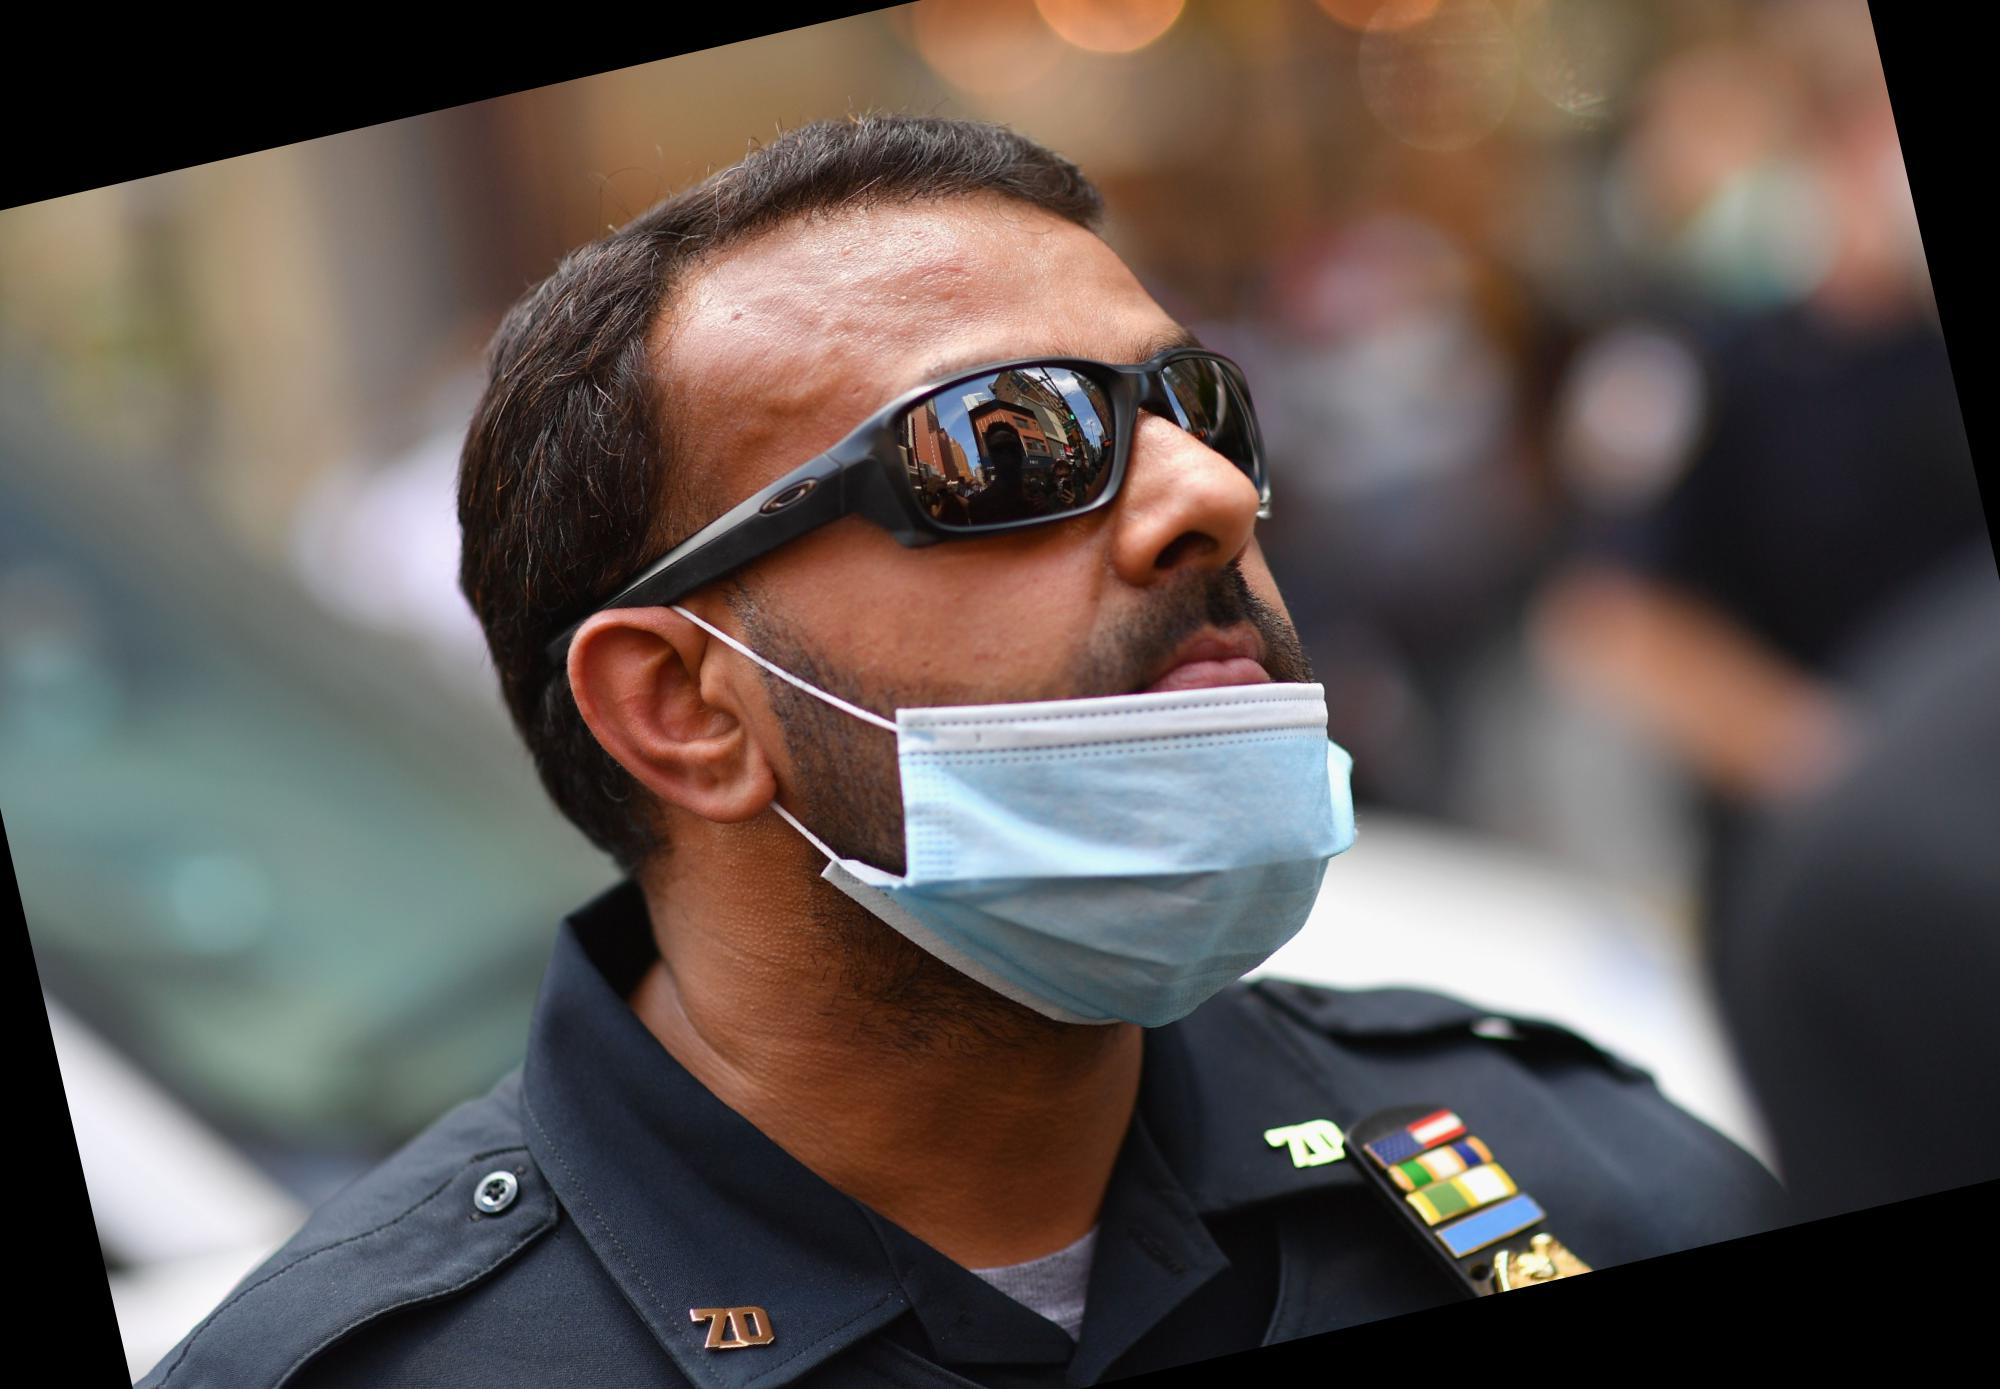mask_weared_incorrect: (715, 308, 1373, 984)
